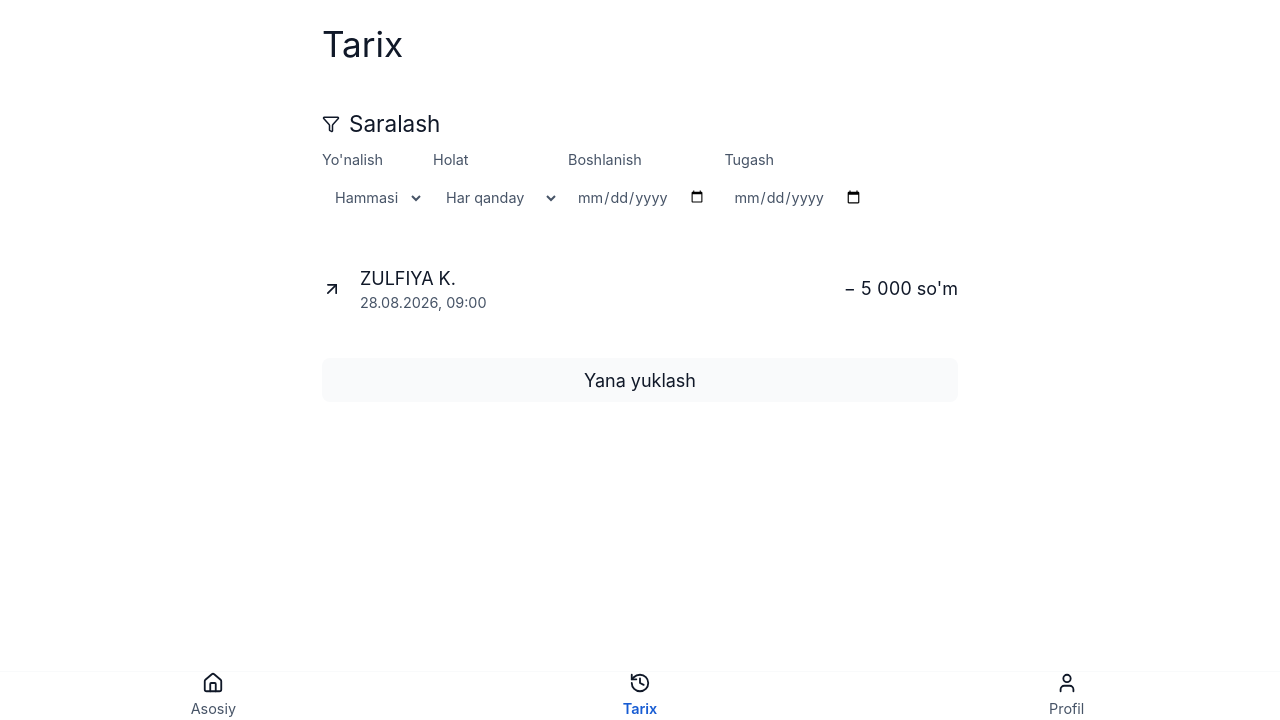
it: paging (FR-5.1) › adds the next page rather than replacing what is on screen
Expected: the text "ZULFIYA K." is shown, [360,268,456,289]
Step 1. Click the button "Yana yuklash" → (640, 380), box [322,358,958,402]
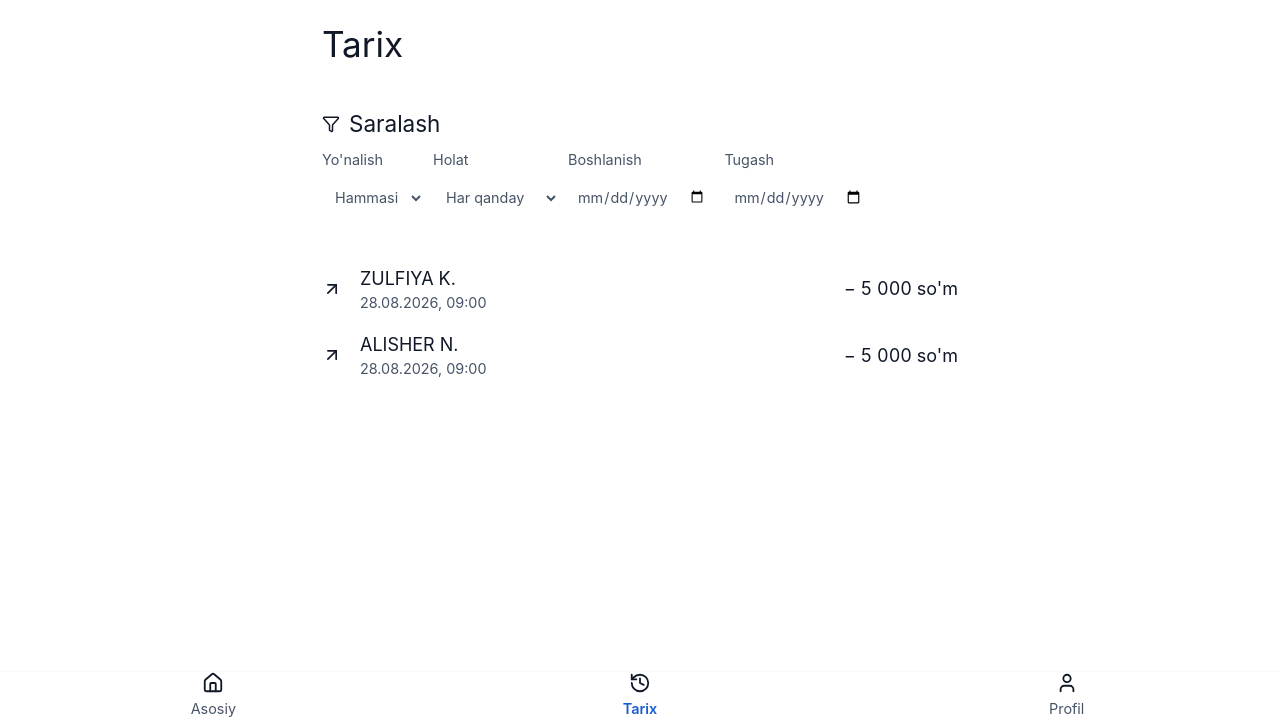
Expected: the text "ZULFIYA K." is shown, [360,268,456,289]
Result: the text "ALISHER N." is shown at [360,334,458,355]
